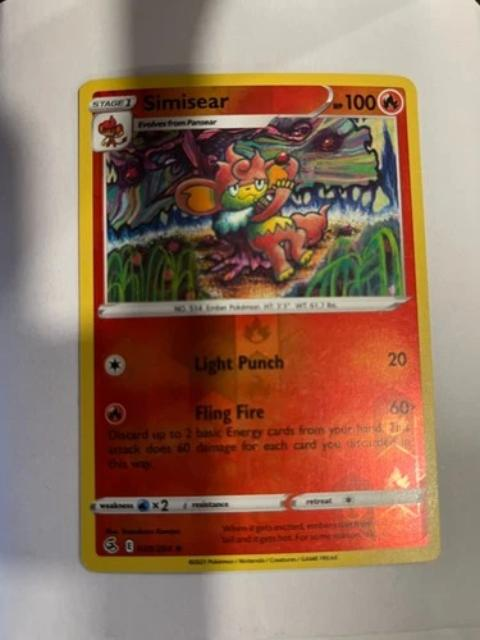Card: (72, 64, 444, 577)
Name: (143, 87, 229, 115)
